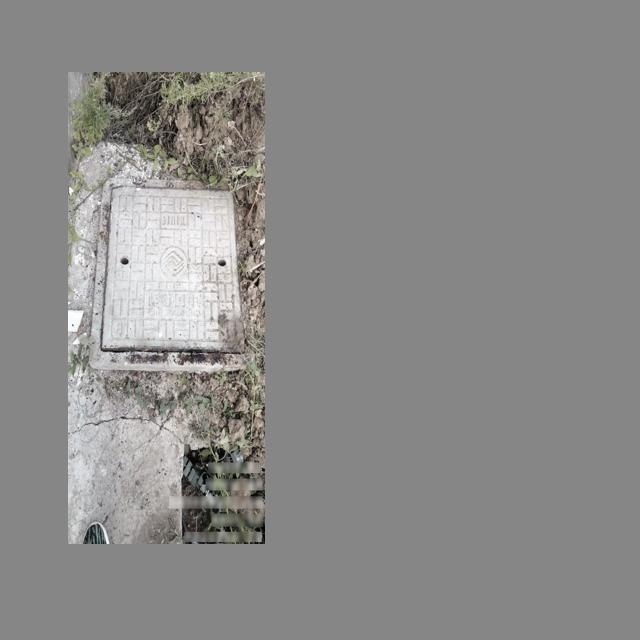good: (88, 179, 249, 369)
